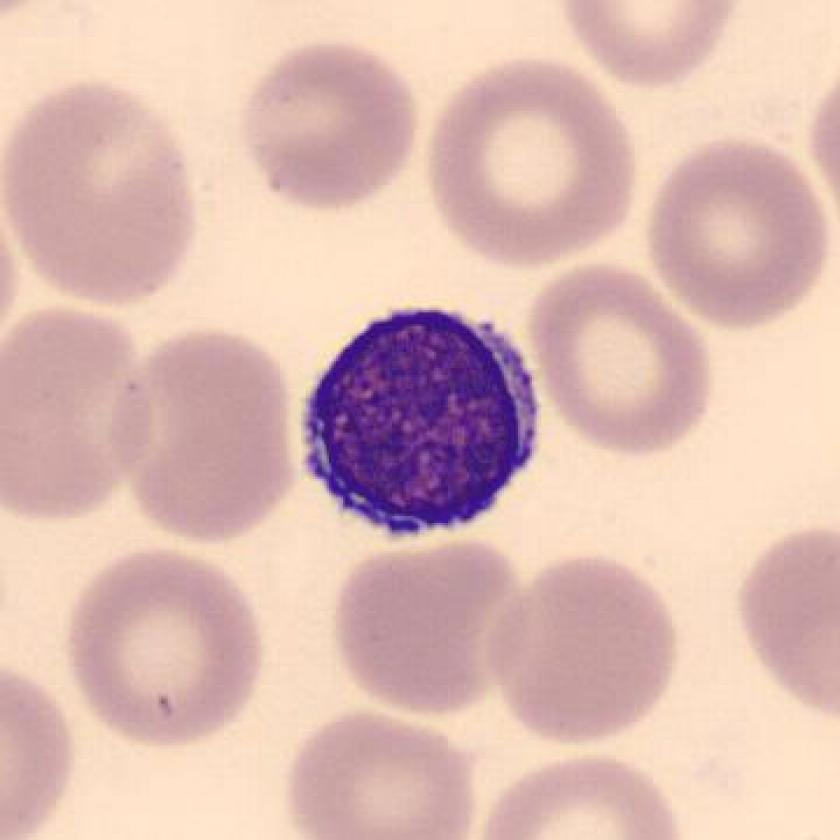lymphocyte: (286, 300, 559, 547)
